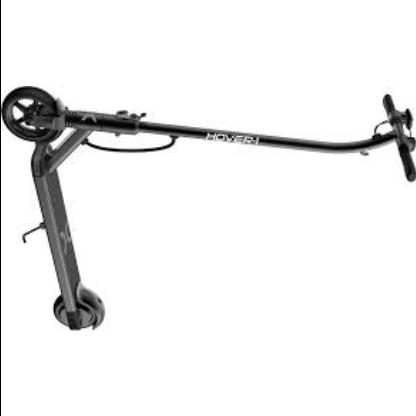bike: (3, 47, 415, 415), (2, 82, 413, 333)
